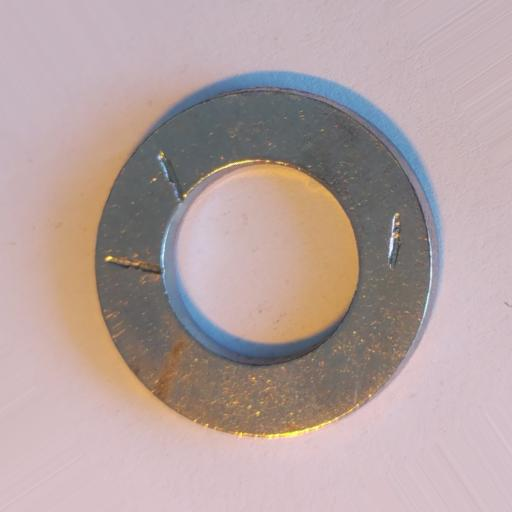scratch: (155, 150, 184, 200), (106, 252, 166, 276), (387, 213, 403, 271)
